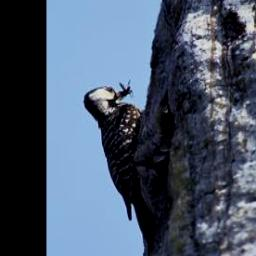Woodpecker: (83, 77, 174, 256)
